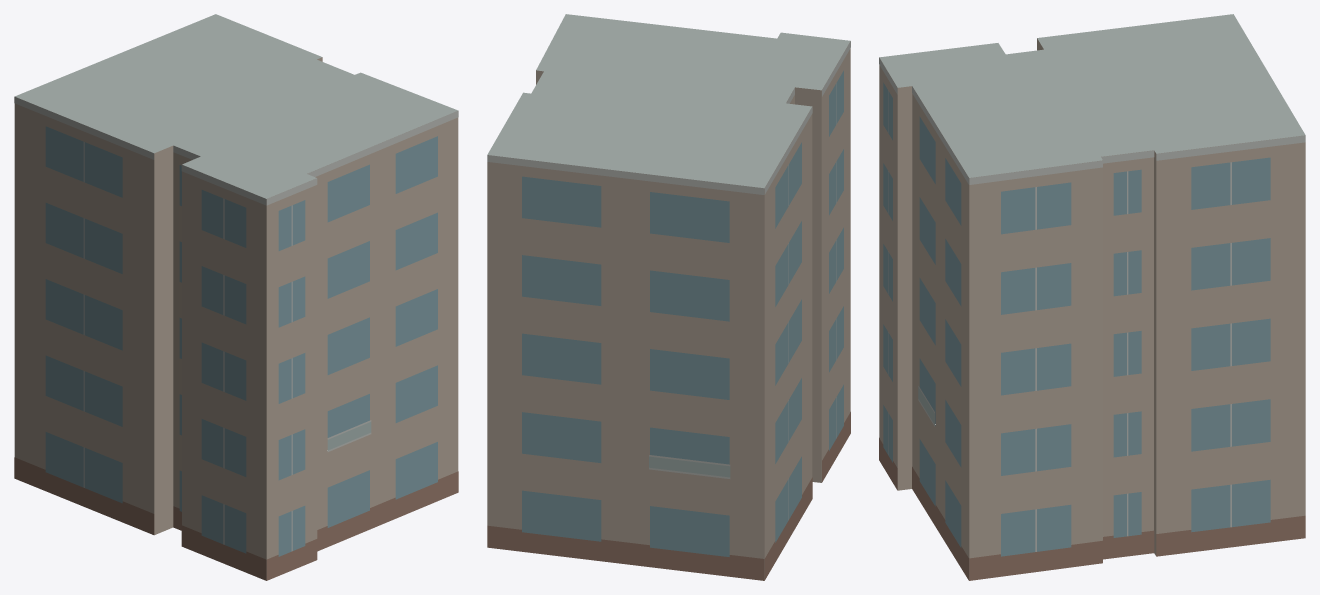
The model's file is survey-upis-32770077.glb.
3 views of the same model, side by side, from view 1: azimuth 30°, elevation 25°; view 2: azimuth 150°, elevation 25°; view 3: azimuth 270°, elevation 25° (orthographic). The views are drawn at different scales.
Visible parts, largest first — view 1: survey-upis-32770077.tmp; view 2: survey-upis-32770077.tmp; view 3: survey-upis-32770077.tmp.
Boxes of the visible parts, x1,y1,x2,y2 form: survey-upis-32770077.tmp: (14, 14, 458, 580); survey-upis-32770077.tmp: (487, 14, 850, 580); survey-upis-32770077.tmp: (879, 14, 1305, 580).
Size of the model in its own units: 12.1 by 13.85 by 13.3.
